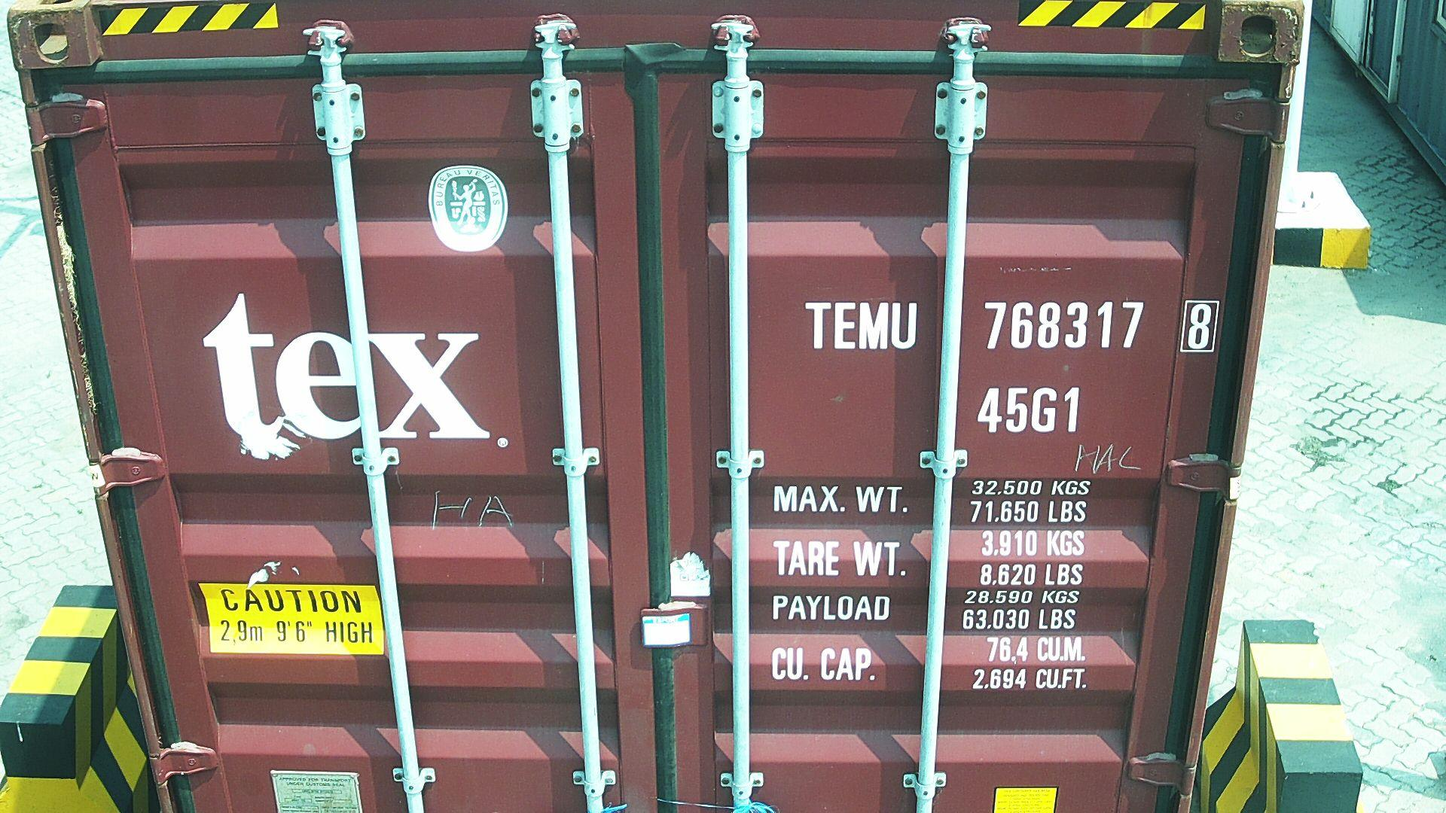container-numbers: (801, 294, 1226, 358), (974, 382, 1084, 437)
